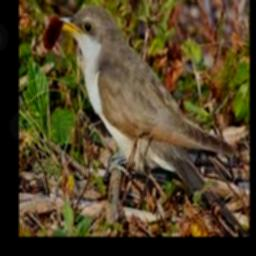Cuckoo: (59, 6, 247, 237)
